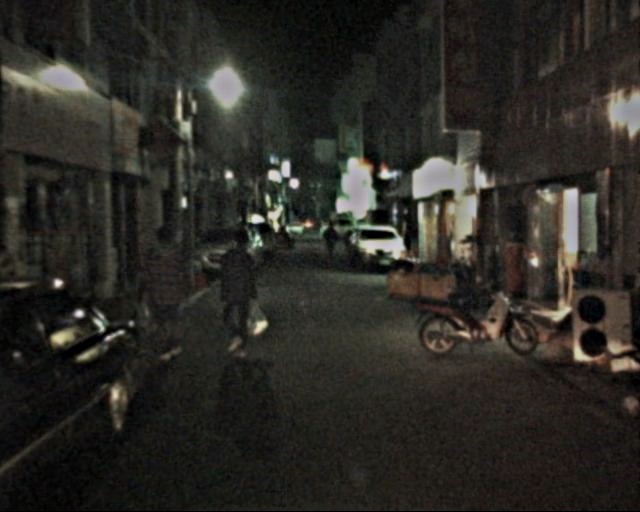person: (139, 223, 194, 363), (211, 232, 266, 363), (321, 220, 340, 264)
